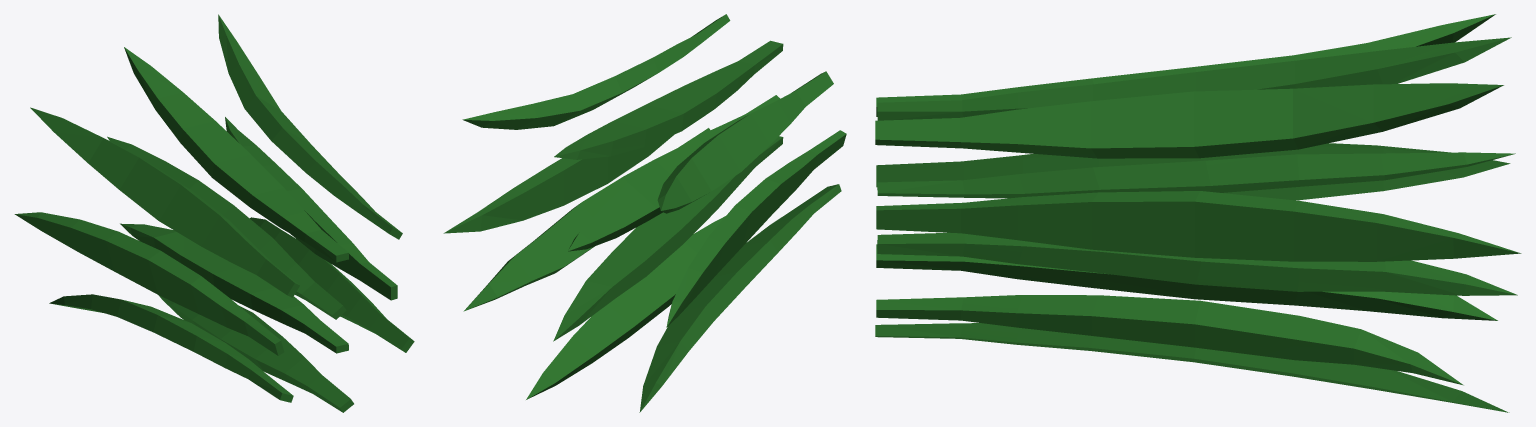
File: Brush.dae
3 renders of one model, left to right at view 1: azimuth 30°, elevation 25°; view 2: azimuth 150°, elevation 25°; view 3: azimuth 270°, elevation 25°, orthographic. The views are drawn at different scales.
Parts seen in each view (by area): view 1: Brush.001_Plane.007; view 2: Brush.001_Plane.007; view 3: Brush.001_Plane.007.
Boxes of the visible parts, x1,y1,x2,y2 form: Brush.001_Plane.007: (14,14,414,412); Brush.001_Plane.007: (443,14,846,412); Brush.001_Plane.007: (875,14,1521,412).
Bounding box in the file's own units: 0.4826 × 0.8671 × 0.5525.
